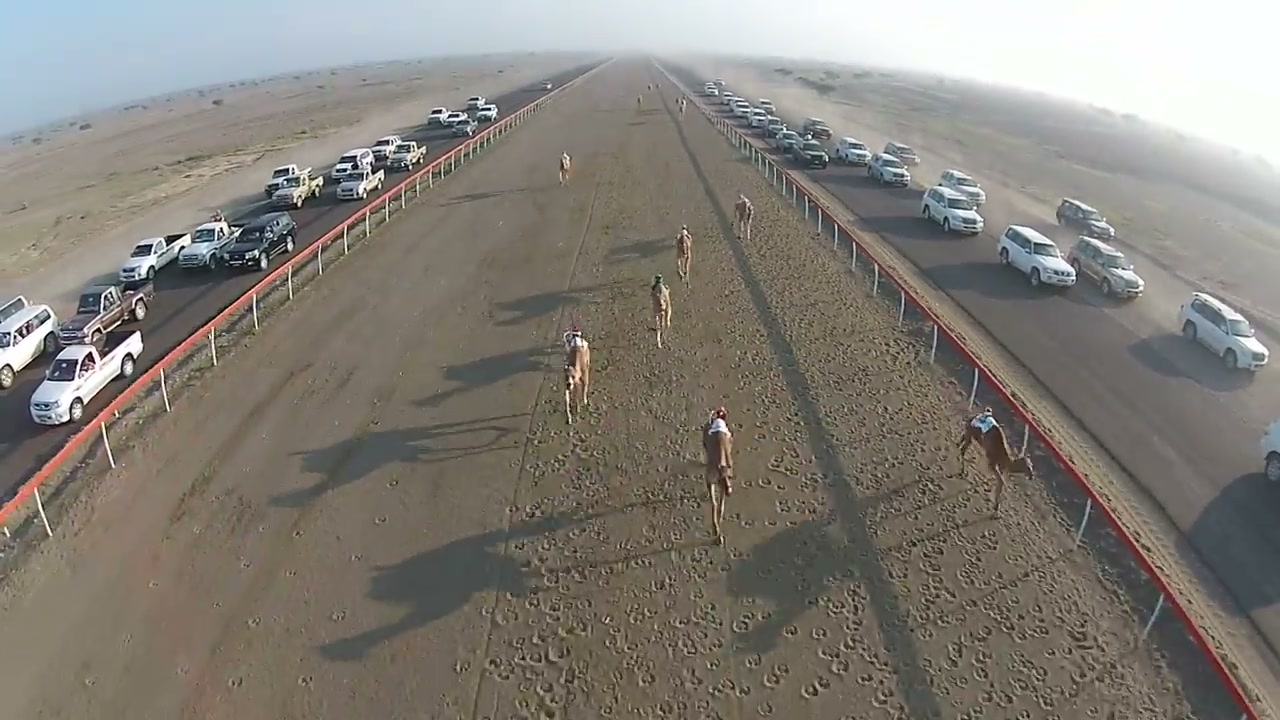animal_footprint: (714, 242, 1091, 719), (504, 435, 779, 711)
